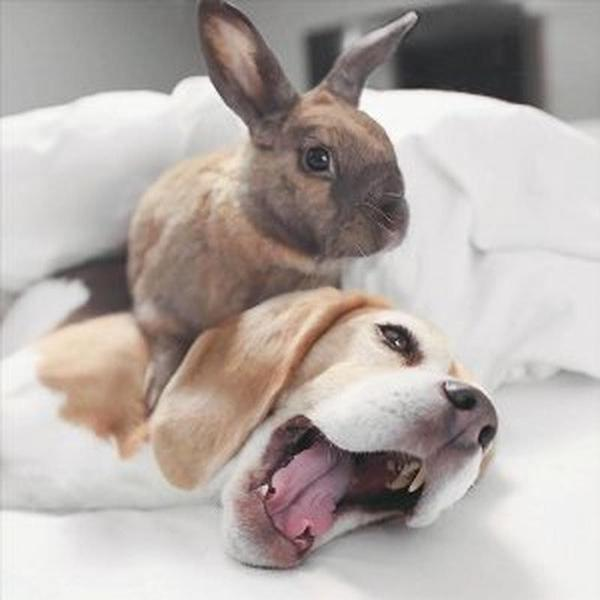allqu: (12, 254, 520, 575)
